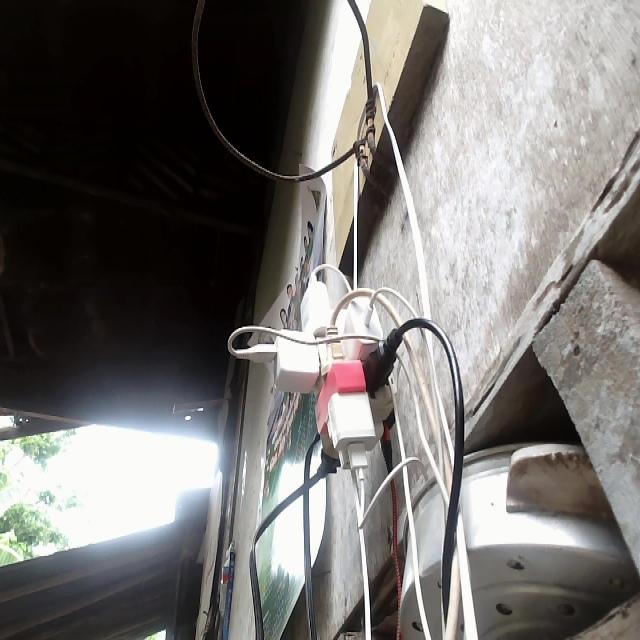-: (248, 260, 420, 480)
